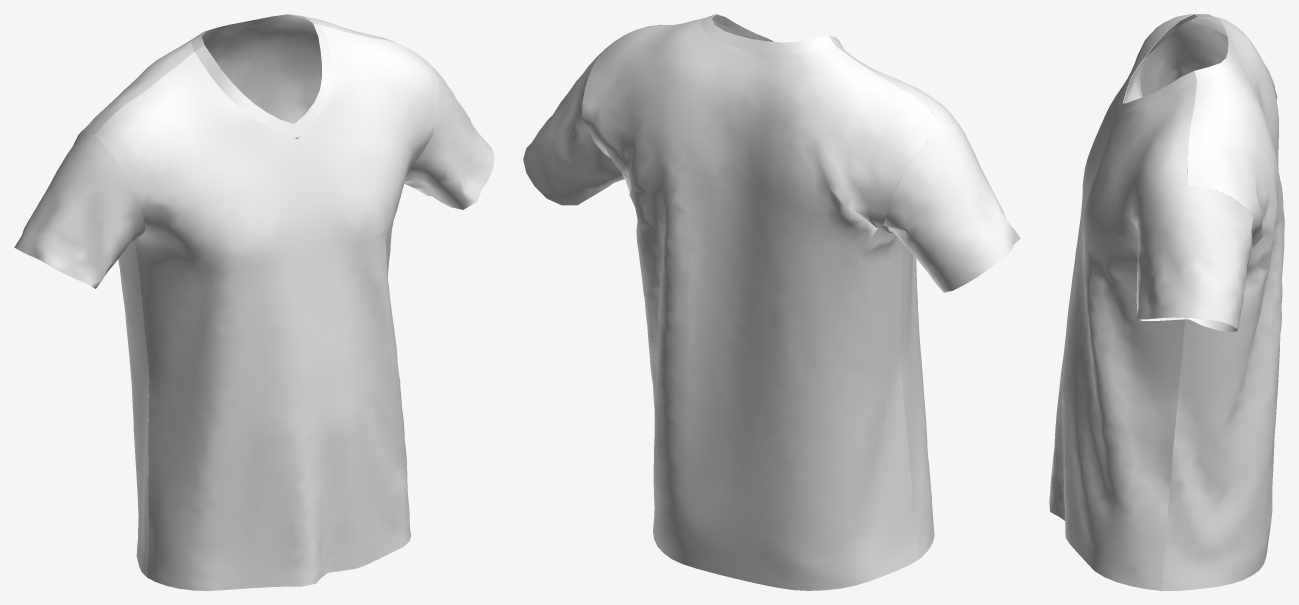
File: aonam01-2.glb
3 views of the same model, side by side, from view 1: azimuth 30°, elevation 25°; view 2: azimuth 150°, elevation 25°; view 3: azimuth 270°, elevation 25° (orthographic). The views are drawn at different scales.
Parts seen in each view (by area): view 1: 40_Node, 8_Node, 61_Node, 36_Node, Pattern2D_3805017_Node, Pattern2D_768516_Node, Pattern2D_3805002_Node; view 2: 8_Node, 61_Node, 40_Node, 36_Node, Pattern2D_3805002_Node; view 3: 40_Node, 8_Node, 36_Node, 61_Node, Pattern2D_768516_Node, Pattern2D_3805002_Node, Pattern2D_3805017_Node.
Part boxes in pixels (bbox=[...]): 40_Node: bbox=[95, 25, 439, 590]; 8_Node: bbox=[81, 17, 396, 576]; 61_Node: bbox=[14, 131, 145, 288]; 36_Node: bbox=[404, 64, 494, 209]; Pattern2D_3805017_Node: bbox=[195, 45, 297, 138]; Pattern2D_768516_Node: bbox=[294, 23, 332, 138]; Pattern2D_3805002_Node: bbox=[191, 14, 320, 51]; 8_Node: bbox=[582, 18, 943, 590]; 61_Node: bbox=[883, 122, 1020, 292]; 40_Node: bbox=[637, 20, 958, 558]; 36_Node: bbox=[523, 50, 624, 205]; Pattern2D_3805002_Node: bbox=[701, 14, 834, 54]; 40_Node: bbox=[1049, 14, 1196, 590]; 8_Node: bbox=[1161, 14, 1284, 590]; 36_Node: bbox=[1136, 185, 1253, 331]; 61_Node: bbox=[1137, 22, 1228, 97]; Pattern2D_768516_Node: bbox=[1116, 71, 1196, 114]; Pattern2D_3805002_Node: bbox=[1194, 14, 1234, 79]; Pattern2D_3805017_Node: bbox=[1117, 14, 1196, 113].
Size of the model in its own units: 0.2538 by 0.2689 by 0.1141.
1 material, 1 textured.
